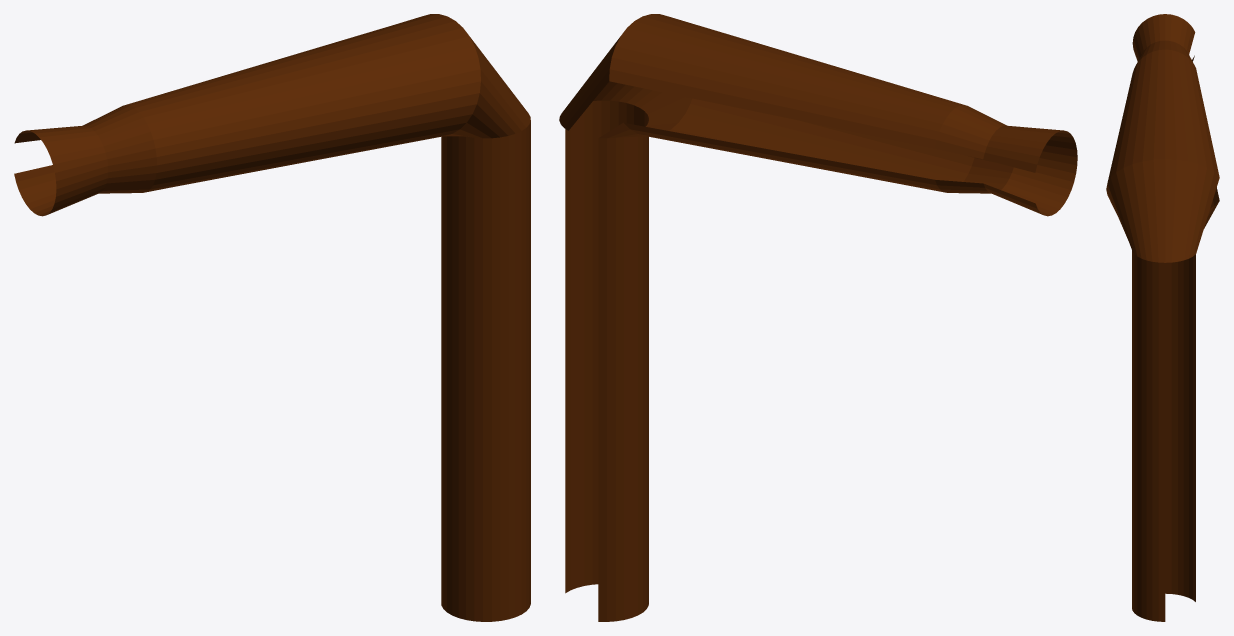
Rendered from WindmillTower.fbx.
3 views of the same model, side by side, from view 1: azimuth 30°, elevation 25°; view 2: azimuth 150°, elevation 25°; view 3: azimuth 270°, elevation 25° (orthographic). The views are drawn at different scales.
Parts seen in each view (by area): view 1: Windmill; view 2: Windmill; view 3: Windmill.
Part boxes in pixels (x1,y1,x2,y2): Windmill: (14,14,530,621); Windmill: (559,14,1077,621); Windmill: (1106,14,1219,621).
Size of the model in its own units: 7.15 by 8.2 by 1.93.
